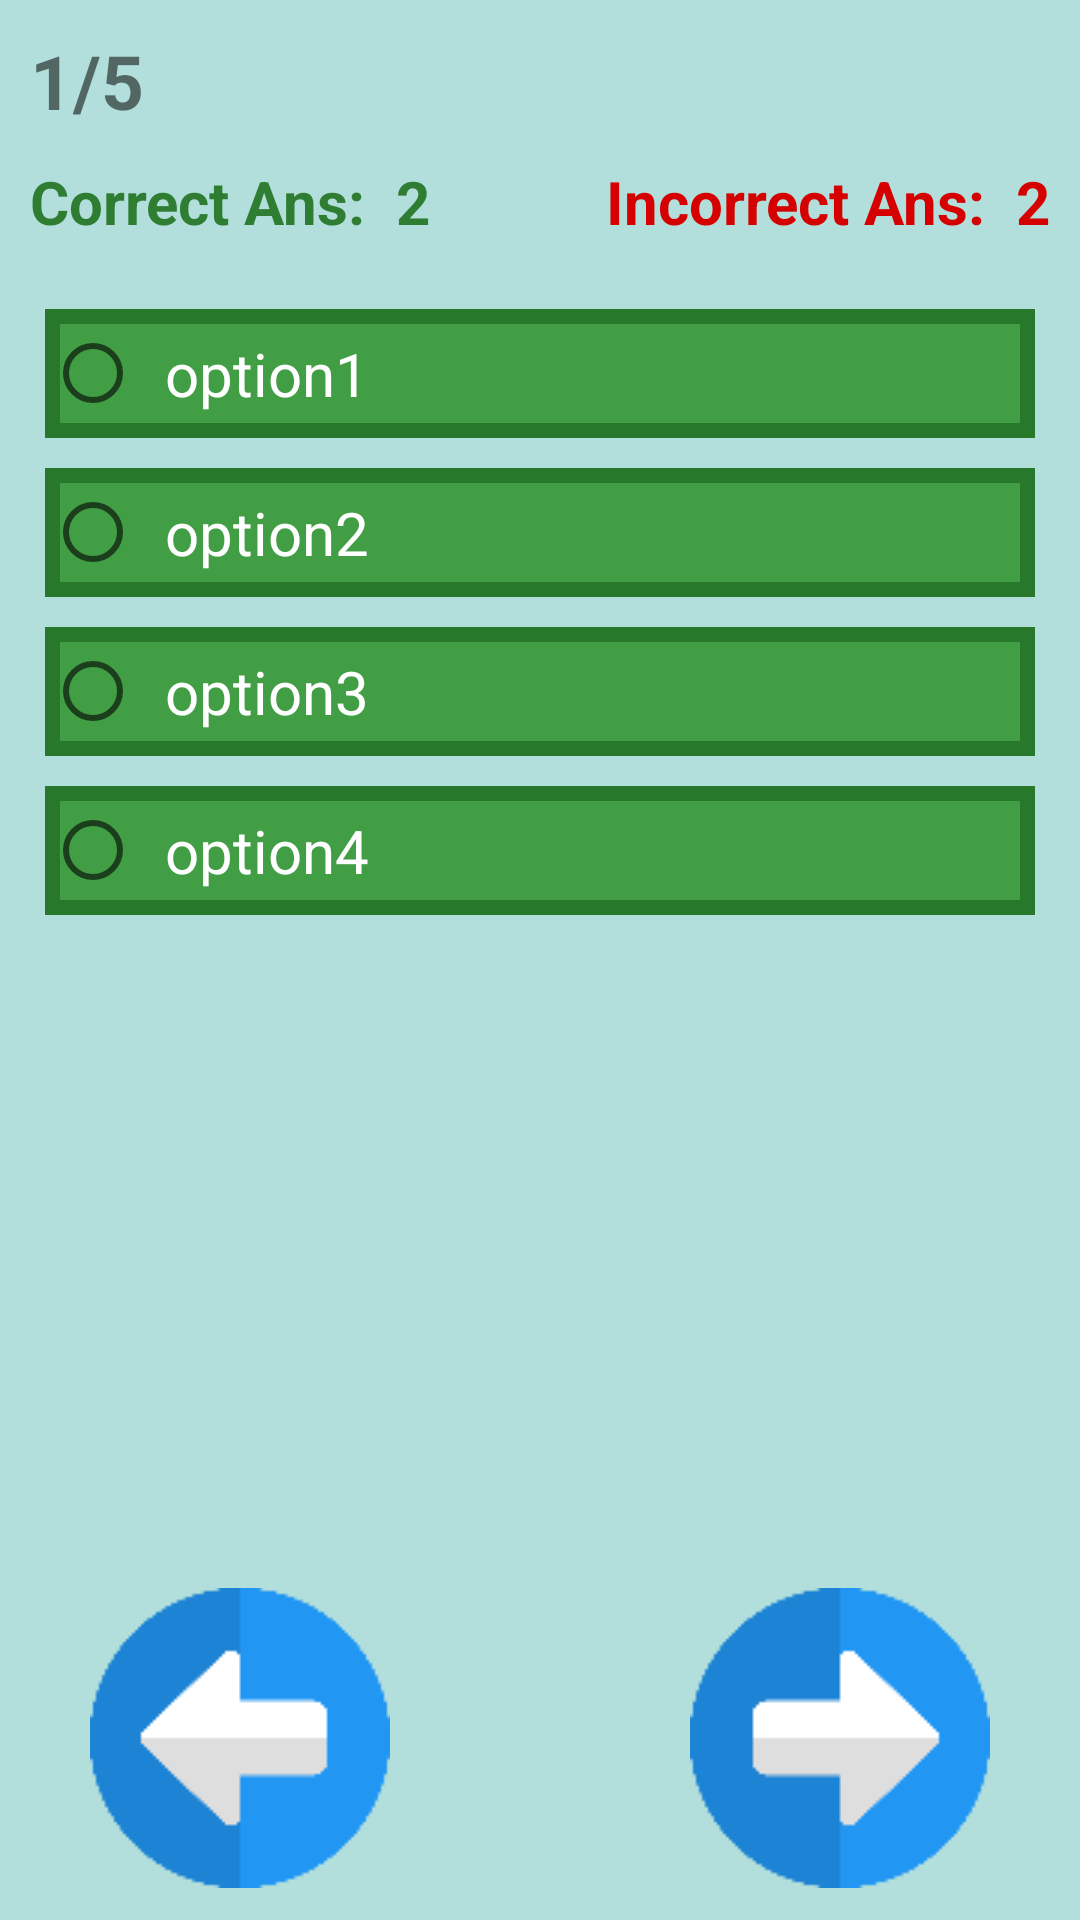

Icon bounding boxes for this 1080w x 1920h phone screenshot, format Rect(x1, y1, x2, y2):
next: Rect(690, 1588, 990, 1888)
previous: Rect(90, 1588, 390, 1888)
